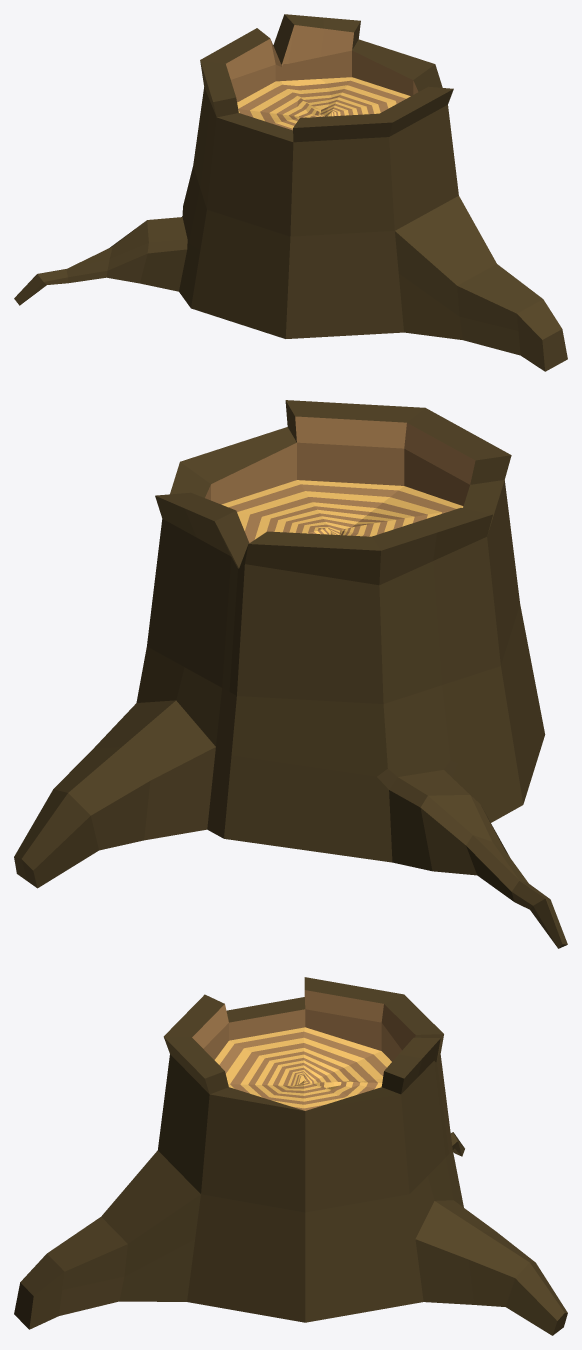
The model's file is kokagac.fbx.
3 views of the same model, one above another, from view 1: azimuth 30°, elevation 25°; view 2: azimuth 150°, elevation 25°; view 3: azimuth 270°, elevation 25° (orthographic). The views are drawn at different scales.
Visible parts, largest first — view 1: kok agac; view 2: kok agac; view 3: kok agac.
Part boxes in pixels (x1=…): kok agac: x1=14, y1=14, x2=567, y2=371; kok agac: x1=14, y1=400, x2=567, y2=948; kok agac: x1=14, y1=977, x2=567, y2=1335.
Bounding box in the file's own units: 81.68 × 49.45 × 98.05.
